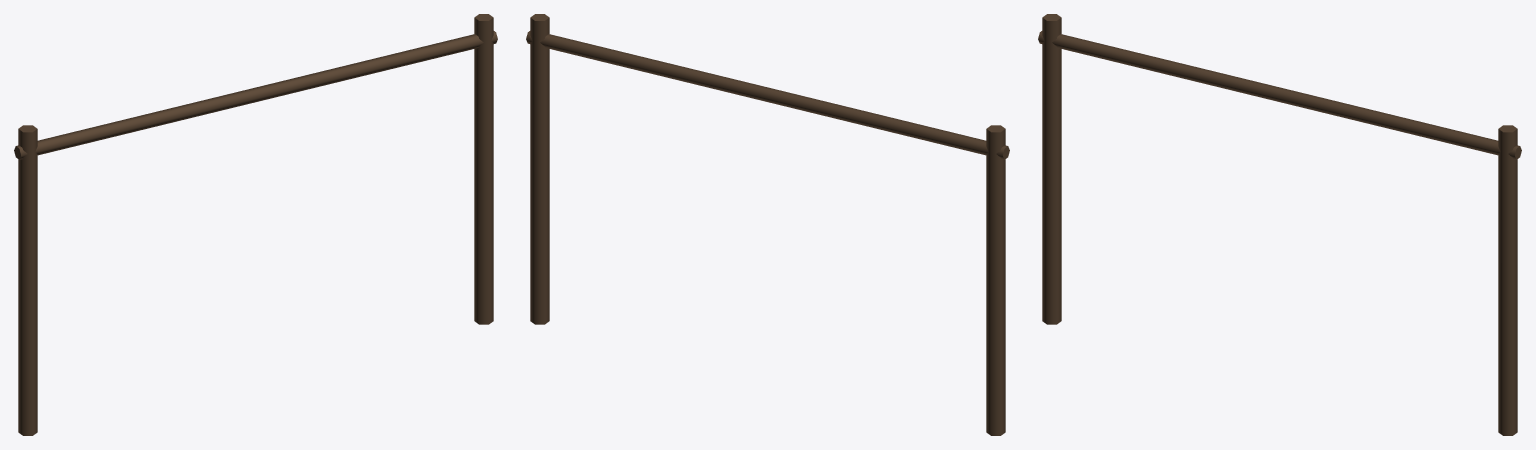
File: fish-net-e645e1a9.glb
The picture shows the model from 3 angles, left to right: view 1: azimuth 30°, elevation 25°; view 2: azimuth 150°, elevation 25°; view 3: azimuth 330°, elevation 25°; orthographic projection.
Bounding box in the file's own units: 2.3 × 1.4 × 0.08.
